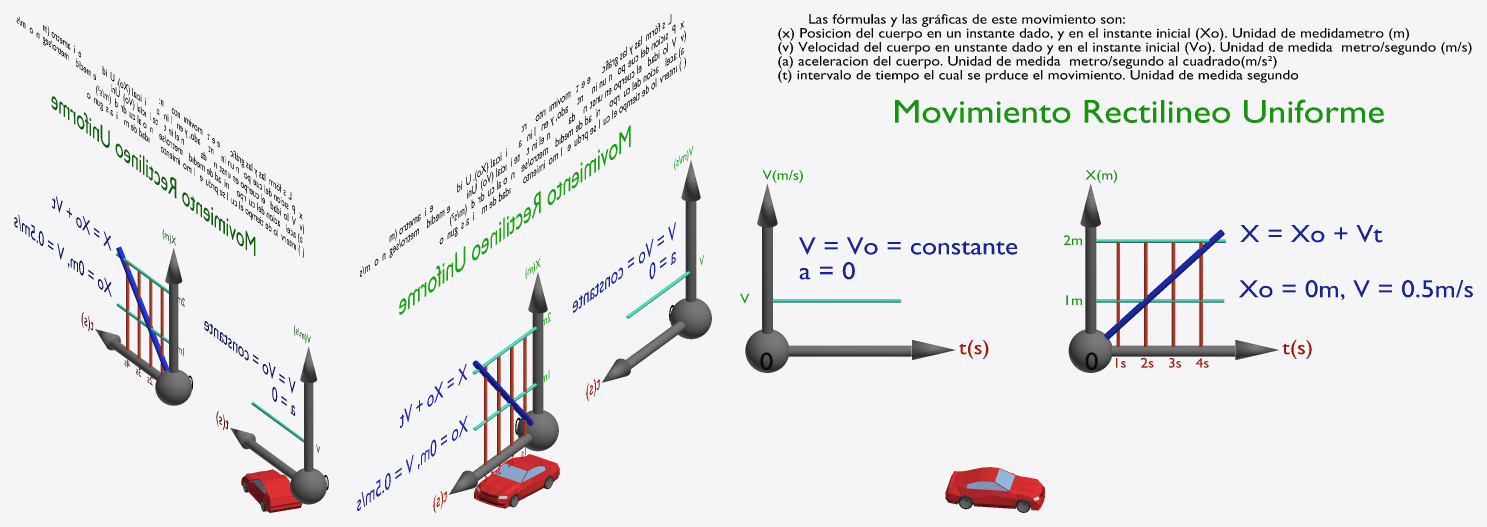
File: 1_mru_Txt_Auto.fbx
3 renders of one model, left to right at view 1: azimuth 30°, elevation 25°; view 2: azimuth 150°, elevation 25°; view 3: azimuth 270°, elevation 25°, orthographic. The views are drawn at different scales.
Parts seen in each view (by area): view 1: Text.008, Cube, Text.017, Sphere, Sphere.001, Cylinder.009, Cylinder, Cylinder.002, Cylinder.010, Text.011, Cylinder.001, Text.007 (+2 smaller); view 2: Text.008, Cube, Text.017, Sphere.001, Cylinder.009, Cylinder, Sphere, Cylinder.010, Text.011, Cylinder.001, Text.007, Cylinder.002 (+2 smaller); view 3: Text.008, Text.017, Cube, Cylinder.010, Cylinder.001, Sphere.001, Sphere, Text.011, Cylinder, Text.007, Cylinder.009, Cylinder.002.
Part boxes in pixels (x1,y1,x2,y2): Text.008: [16, 16, 303, 257]; Cube: [241, 469, 301, 512]; Text.017: [51, 96, 255, 255]; Sphere: [155, 369, 191, 405]; Sphere.001: [290, 468, 326, 504]; Cylinder.009: [304, 382, 313, 471]; Cylinder: [169, 284, 178, 372]; Cylinder.002: [116, 246, 168, 371]; Cylinder.010: [244, 438, 296, 479]; Text.011: [204, 321, 295, 415]; Cylinder.001: [109, 339, 160, 380]; Text.007: [14, 215, 111, 296]; Text.008: [360, 14, 685, 276]; Cube: [474, 454, 559, 508]; Text.017: [399, 125, 630, 314]; Sphere.001: [670, 298, 711, 339]; Cylinder.009: [685, 201, 696, 302]; Cylinder: [532, 313, 543, 414]; Sphere: [517, 410, 558, 451]; Cylinder.010: [626, 321, 685, 368]; Text.011: [572, 222, 675, 312]; Cylinder.001: [473, 433, 532, 480]; Text.007: [357, 415, 467, 510]; Cylinder.002: [472, 360, 533, 425]; Text.008: [778, 14, 1471, 82]; Text.017: [895, 99, 1383, 122]; Cube: [945, 467, 1044, 512]; Cylinder.010: [788, 345, 911, 356]; Cylinder.001: [1112, 345, 1234, 356]; Sphere.001: [745, 329, 788, 372]; Sphere: [1068, 329, 1111, 372]; Text.011: [799, 237, 1017, 279]; Cylinder: [1085, 227, 1096, 333]; Text.007: [1239, 280, 1472, 299]; Cylinder.009: [762, 227, 772, 333]; Cylinder.002: [1104, 229, 1224, 339].
Size of the model in its own units: 591 by 2267 by 3319.
